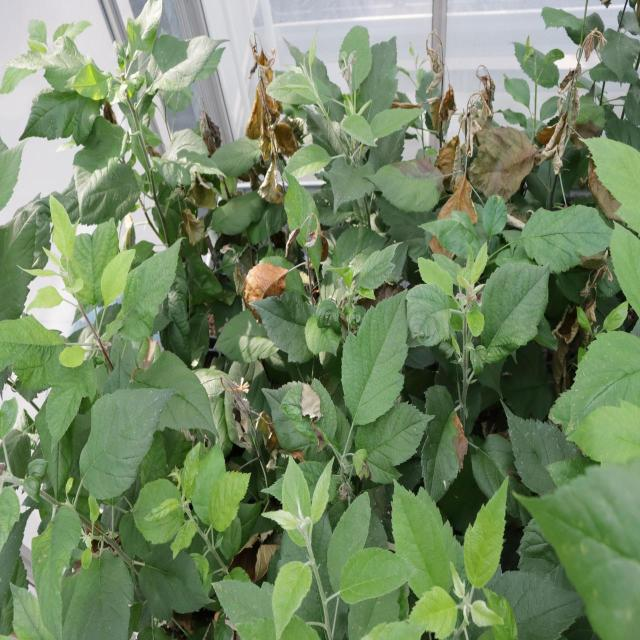-FireBlight-: (422, 31, 607, 261), (239, 41, 313, 220), (227, 214, 327, 324), (214, 368, 303, 467), (179, 156, 231, 240), (198, 111, 223, 153)
